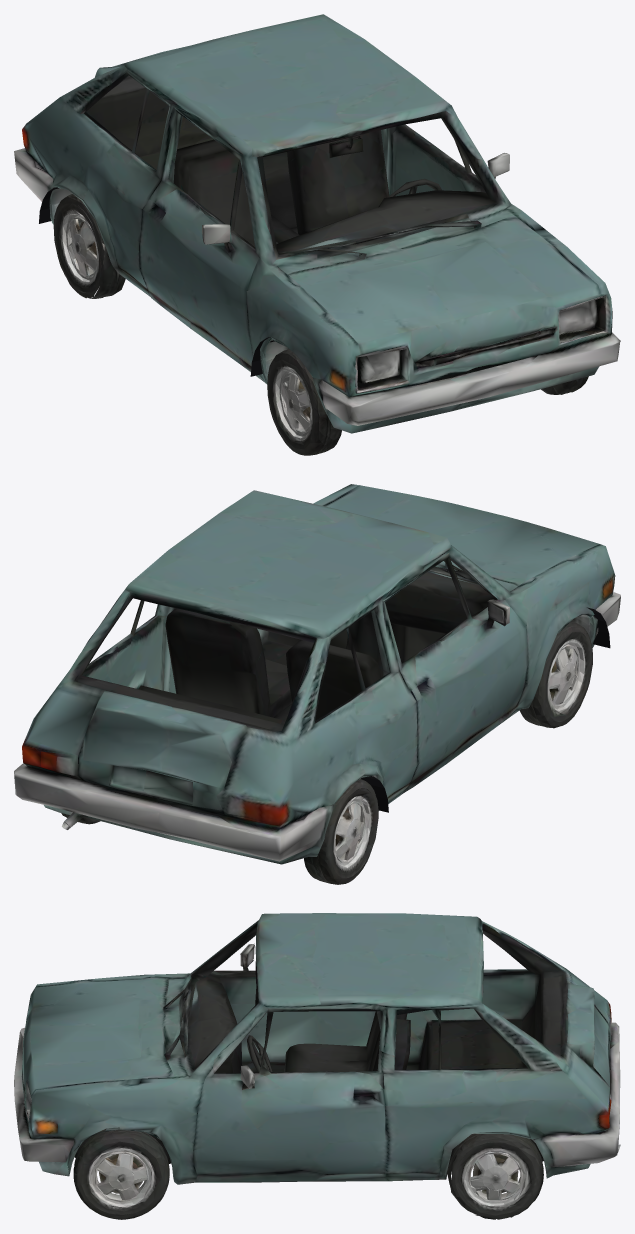
The model's file is car_hatch_lod.glb.
3 renders of one model, top to bottom at view 1: azimuth 30°, elevation 25°; view 2: azimuth 150°, elevation 25°; view 3: azimuth 270°, elevation 25°, orthographic. The views are drawn at different scales.
Parts seen in each view (by area): view 1: body, wheel_FR, wheel_RR; view 2: body, wheel_FR, wheel_RR; view 3: body, wheel_FL, wheel_RL.
Boxes of the visible parts, <box> form: body: <box>14,14,620,433</box>; wheel_FR: <box>261,349,341,455</box>; wheel_RR: <box>50,194,104,298</box>; body: <box>14,484,620,864</box>; wheel_FR: <box>519,613,595,728</box>; wheel_RR: <box>304,779,378,884</box>; body: <box>14,913,620,1217</box>; wheel_FL: <box>68,1127,173,1219</box>; wheel_RL: <box>450,1134,547,1219</box>.
Size of the model in its own units: 1.93 by 1.44 by 3.8.
Materials: 2 (1 with a texture image).
